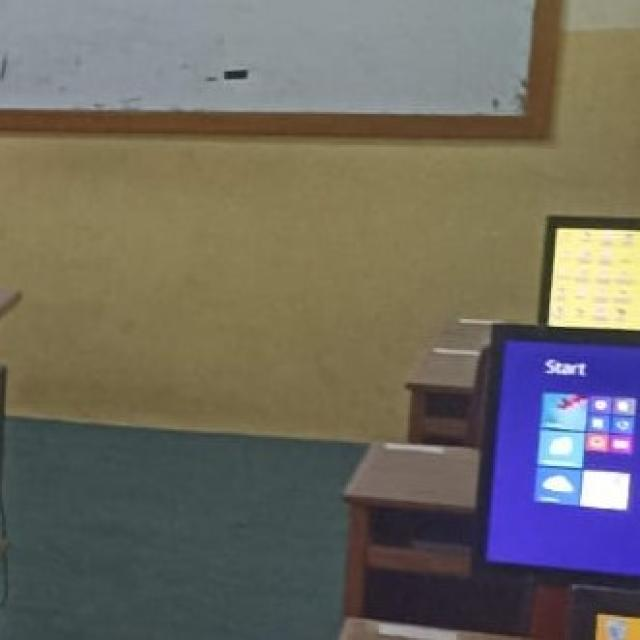onscreen: (484, 328, 640, 576), (549, 229, 640, 328)
